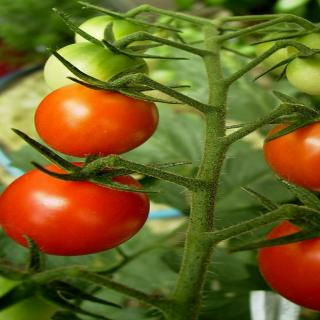tomato: (0, 161, 151, 254), (30, 73, 159, 155), (256, 220, 319, 310), (41, 43, 150, 92), (263, 120, 319, 190), (75, 16, 154, 54), (254, 24, 306, 72), (283, 46, 319, 96)
